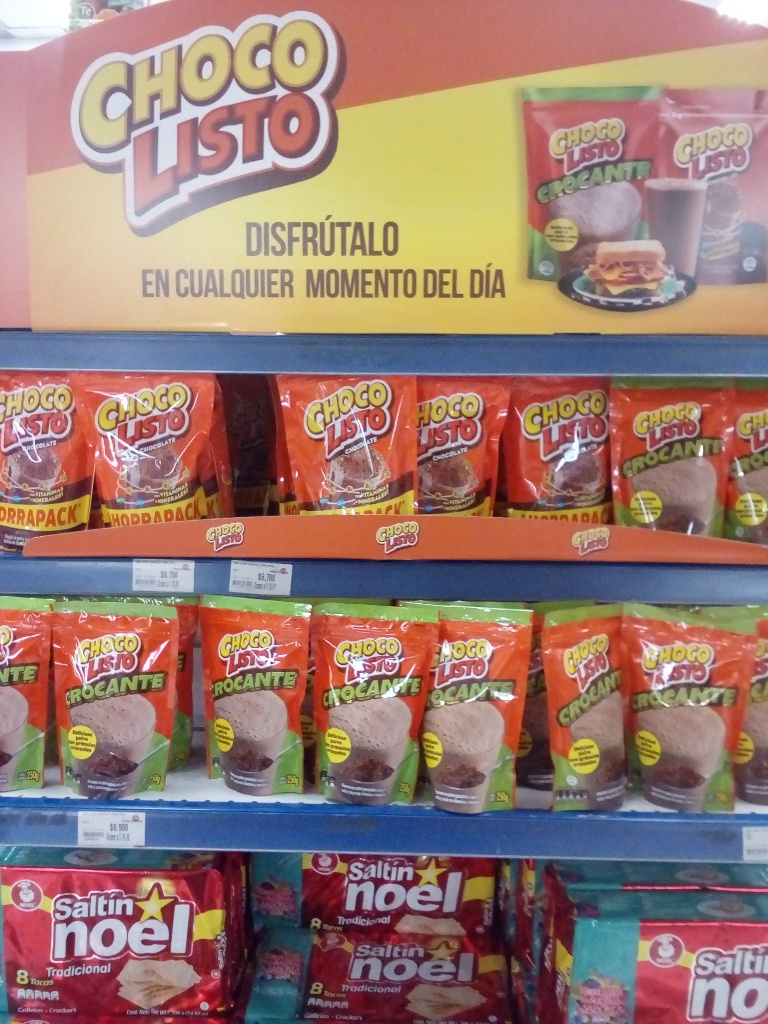COL0170102DYP25000: (2, 590, 57, 797)
COL0170103DYP36000: (496, 376, 612, 530)
